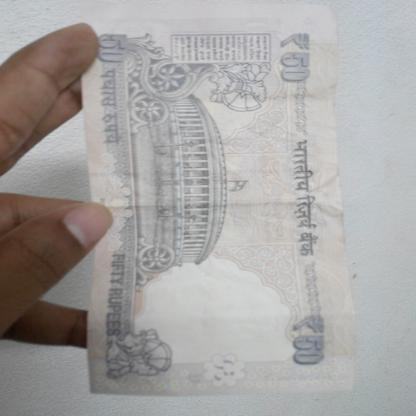Old50Back: (83, 0, 357, 398)
